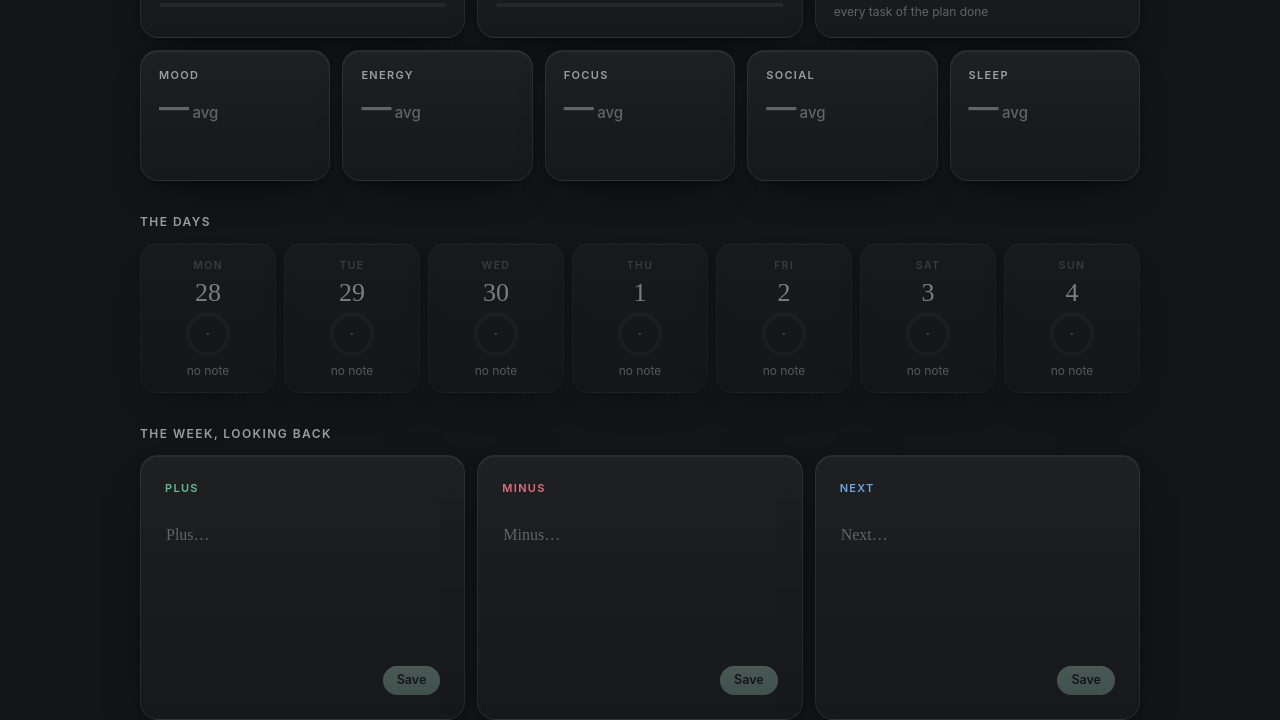
Scenario: the week page writes › saves Plus, Minus and Next from their cards, and only once something is typed
(page scrolled)
Expected: the button with test id "reflection-save" below "Plus" is disabled, x1=383 y1=666 x2=440 y2=695
Type "Two deep mornings" into the text box with test id "reflection-field" showing "Plus…" at {"x": 304, "y": 565}, box x1=153 y1=512 x2=454 y2=618
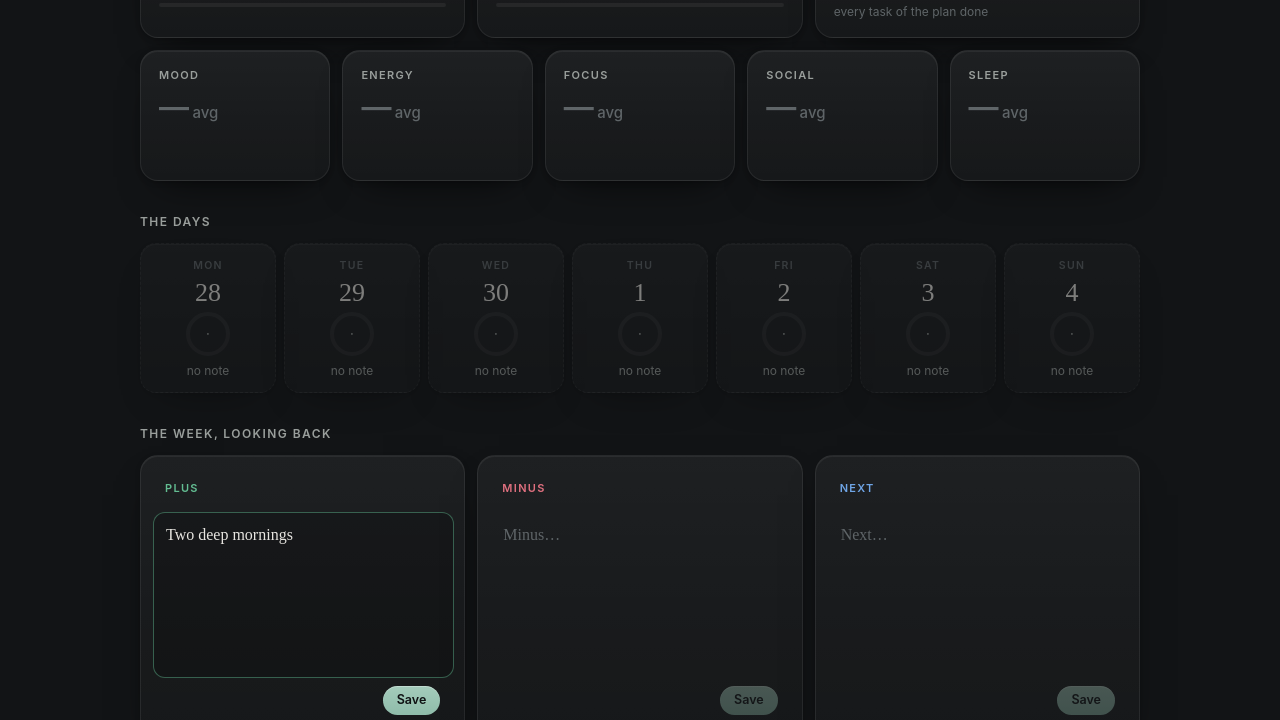
Click the button with test id "reflection-save" below "Plus" at {"x": 412, "y": 701}, box x1=383 y1=686 x2=440 y2=715
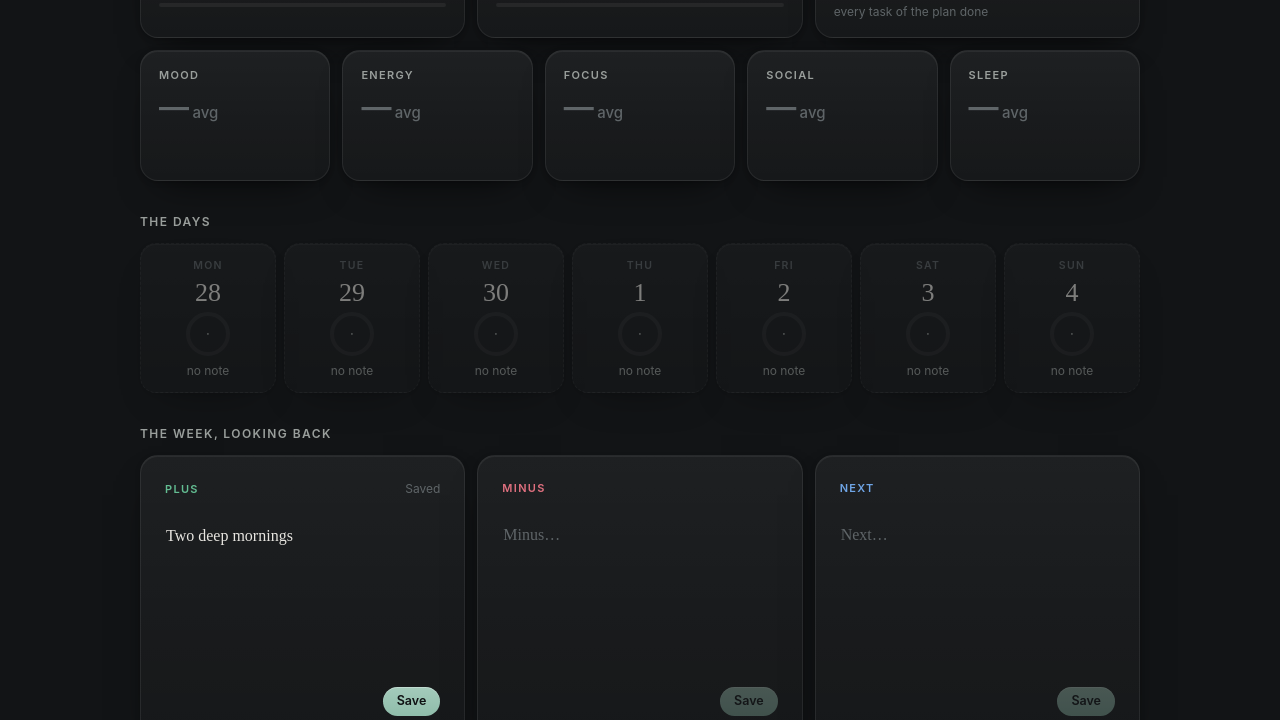
Expected: the text "Saved" is shown, x1=405 y1=480 x2=440 y2=498
